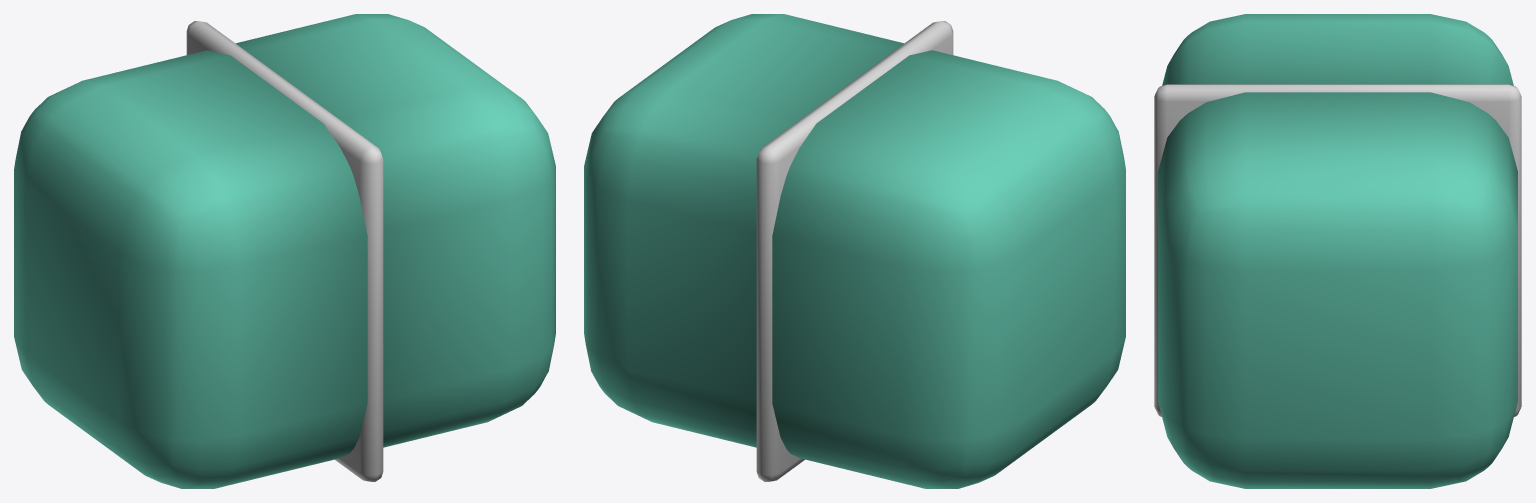
The model's file is arch_seg.glb.
3 views of the same model, side by side, from view 1: azimuth 30°, elevation 25°; view 2: azimuth 150°, elevation 25°; view 3: azimuth 270°, elevation 25° (orthographic).
Parts seen in each view (by area): view 1: arch_seg; view 2: arch_seg; view 3: arch_seg.
Part boxes in pixels (left/top/right/bottom): arch_seg: left=14, top=14, right=555, bottom=488; arch_seg: left=584, top=14, right=1125, bottom=488; arch_seg: left=1154, top=14, right=1521, bottom=488.
Size of the model in its own units: 1.9 by 1.43 by 1.43.
